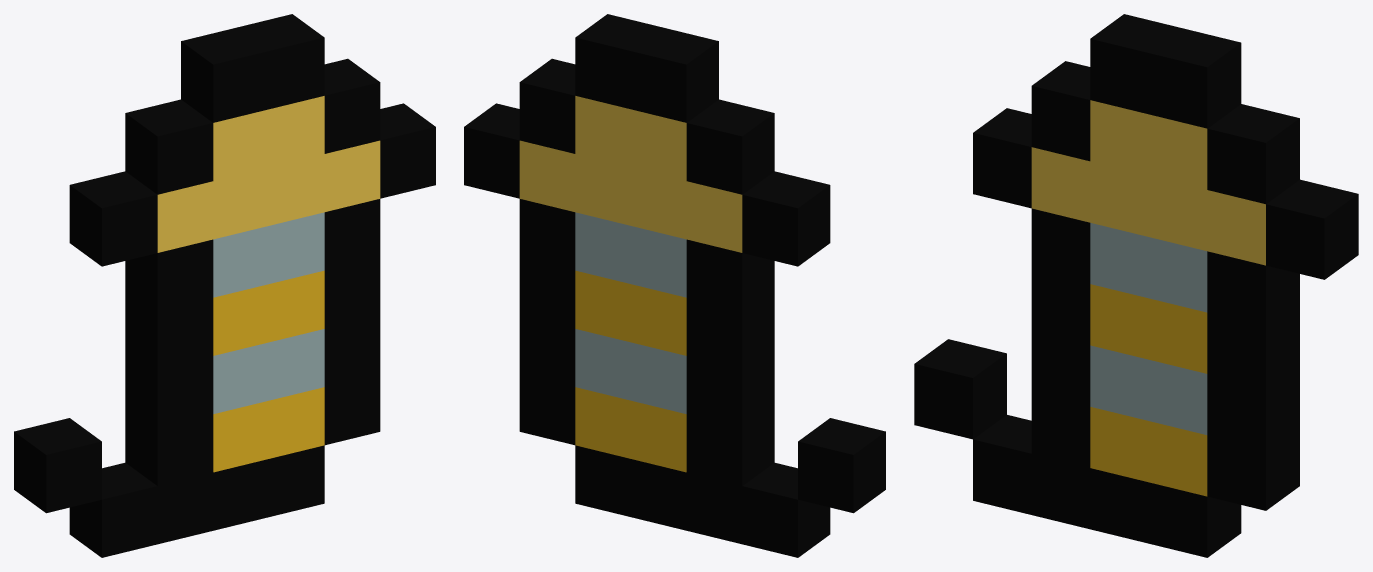
The model's file is Yellow Firecracker.glb.
3 renders of one model, left to right at view 1: azimuth 30°, elevation 25°; view 2: azimuth 150°, elevation 25°; view 3: azimuth 330°, elevation 25°, orthographic. The views are drawn at different scales.
Visible parts, largest first — view 1: generated(Clone); view 2: generated(Clone); view 3: generated(Clone).
Boxes of the visible parts, x1,y1,x2,y2 form: generated(Clone): (14, 14, 435, 557); generated(Clone): (464, 14, 885, 557); generated(Clone): (914, 14, 1358, 557).
Bounding box in the file's own units: 7 × 8 × 1.
1 material, 1 textured.
